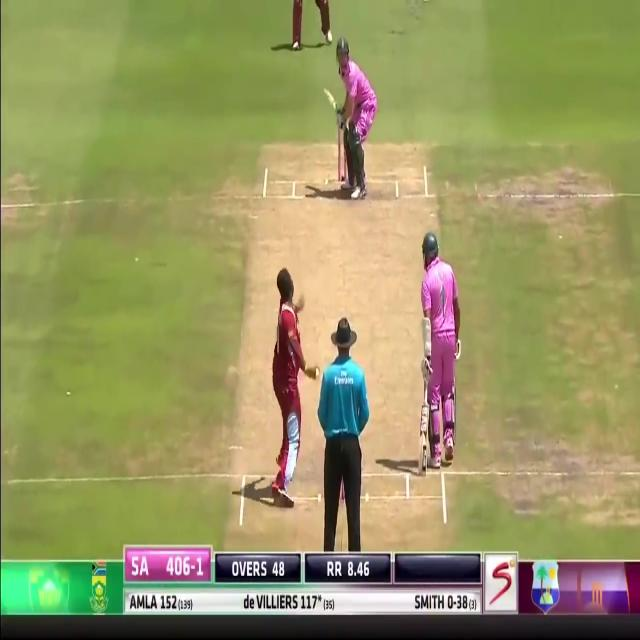Ball: (420, 233, 460, 471), (334, 38, 377, 198)
Fielder: (270, 269, 307, 504), (287, 0, 333, 49)
Umpire: (318, 321, 370, 547)
